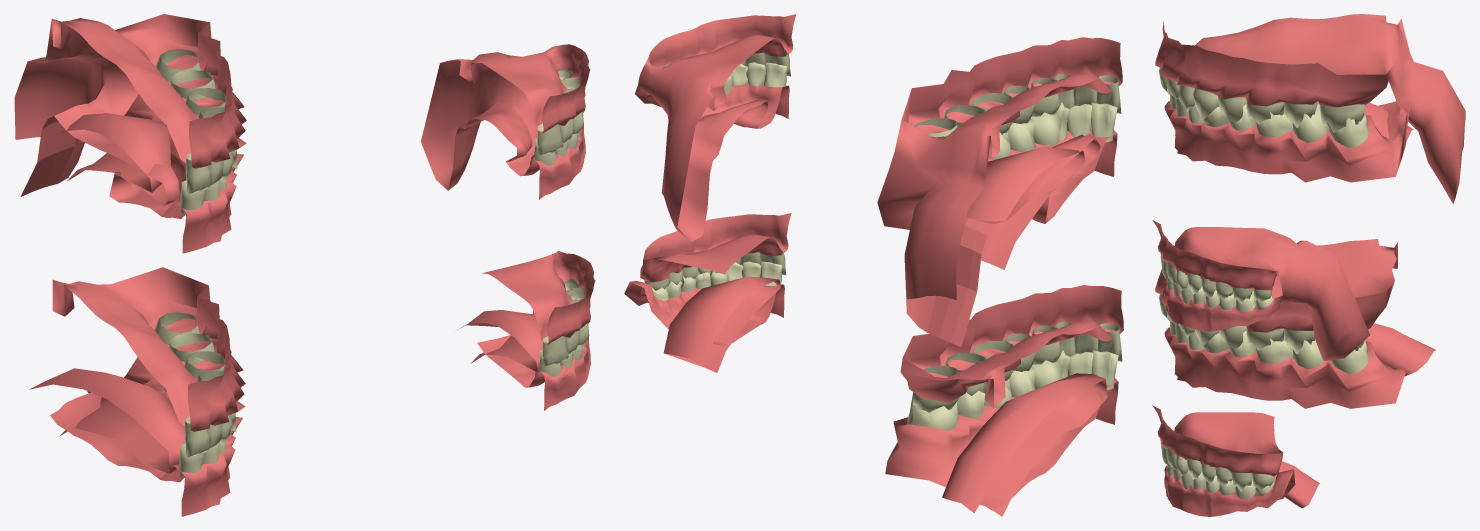
The model's file is free_teeth_base_mesh.glb.
The picture shows the model from 3 angles, left to right: view 1: azimuth 30°, elevation 25°; view 2: azimuth 150°, elevation 25°; view 3: azimuth 270°, elevation 25°; orthographic projection. The views are drawn at different scales.
Visible parts, largest first — view 1: Cube.005, Cube.014, Cube.001, Cube.010, Cube.007, Cube.003, Cube.012, Cube.002, Cube.006, Cube.009, Cube.011, Cube.004 (+1 smaller); view 2: Cube.005, Cube.014, Cube.001, Cube.010, Cube.007, Cube.003, Cube.012, Cube.011, Cube.004, Cube.009, Cube.002, Cube.008 (+1 smaller); view 3: Cube.005, Cube.014, Cube.003, Cube.007, Cube.001, Cube.009, Cube.006, Cube.008, Cube.004, Cube.010, Cube.002, Cube.011 (+1 smaller).
Part boxes in pixels (x1,y1,x2,y2): Cube.005: (14,14,246,253); Cube.014: (420,44,590,199); Cube.001: (52,267,245,431); Cube.010: (29,368,184,473); Cube.007: (482,251,595,366); Cube.003: (50,357,245,516); Cube.012: (50,113,170,192); Cube.002: (154,312,236,457); Cube.006: (155,49,237,194); Cube.009: (477,296,590,410); Cube.011: (458,310,542,372); Cube.004: (163,386,225,477); Cube.005: (877,37,1122,346); Cube.014: (635,14,796,241); Cube.001: (900,285,1123,408); Cube.010: (942,373,1107,516); Cube.007: (640,213,791,290); Cube.003: (885,378,1118,510); Cube.012: (966,147,1085,269); Cube.011: (663,276,780,372); Cube.004: (907,350,1118,430); Cube.009: (624,261,784,345); Cube.002: (912,322,1122,412); Cube.008: (988,102,1117,159); Cube.005: (1155,14,1465,203); Cube.014: (1152,220,1369,360); Cube.003: (1164,327,1405,408); Cube.007: (1152,405,1283,491); Cube.001: (1155,239,1397,332); Cube.009: (1164,465,1295,516); Cube.006: (1159,68,1364,132); Cube.008: (1170,95,1368,147); Cube.004: (1170,321,1368,373); Cube.010: (1364,323,1435,376); Cube.002: (1159,294,1364,354); Cube.011: (1274,461,1319,508).
Size of the model in its own units: 1.28 by 1.11 by 0.8757.
